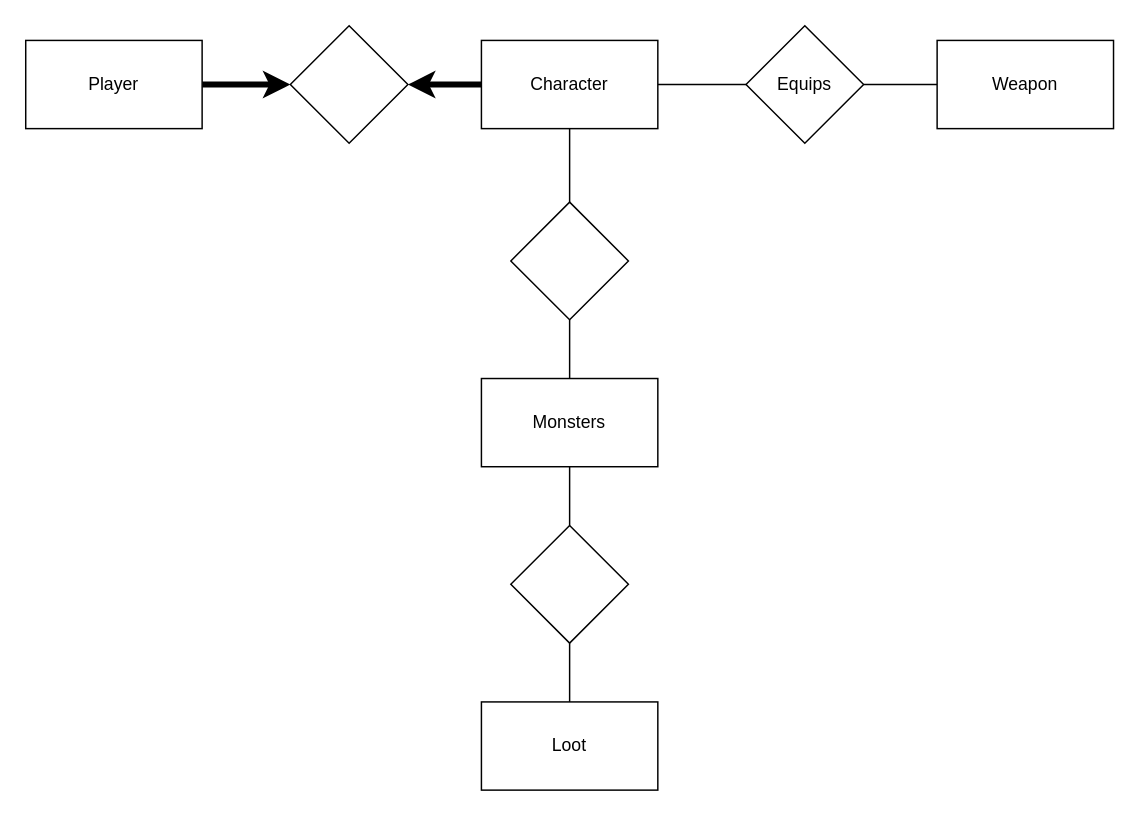
The diagram is 1139 pixels wide and 816 high, and some of its shapes have lost their labels. Each missing label, with the box of its shape:
Drops: (509, 524, 628, 643)
Fights: (509, 201, 628, 320)
Plays: (289, 24, 408, 143)
